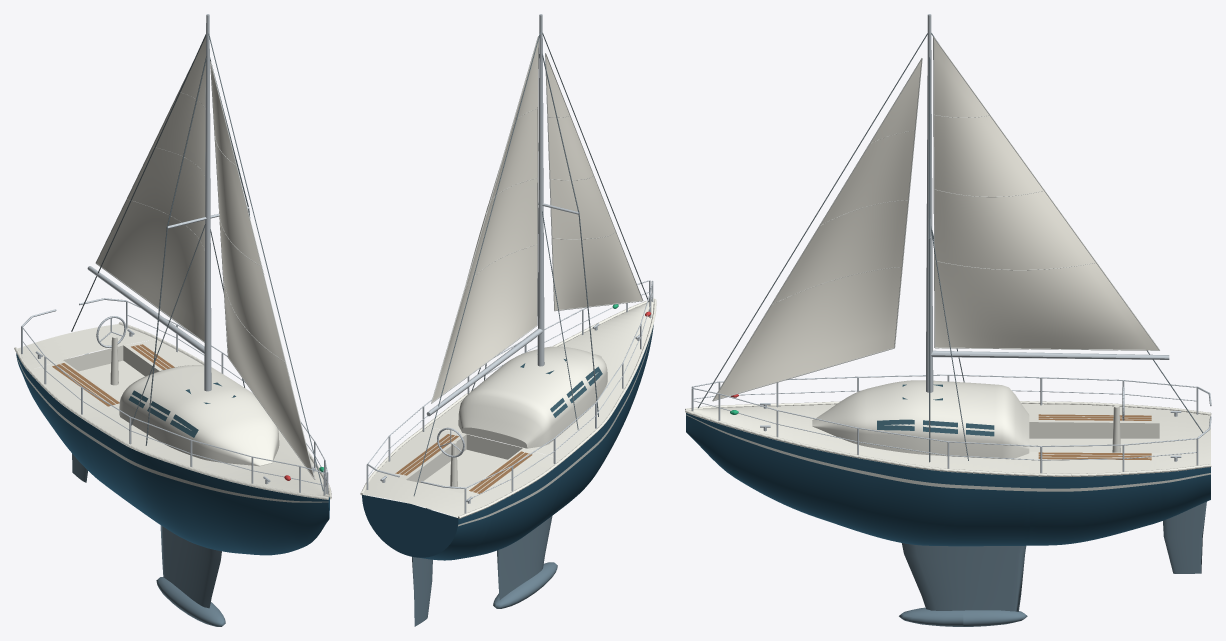
Rendered from yokuli-sloop.glb.
3 renders of one model, left to right at view 1: azimuth 30°, elevation 25°; view 2: azimuth 150°, elevation 25°; view 3: azimuth 270°, elevation 25°, orthographic. The views are drawn at different scales.
Parts seen in each view (by area): view 1: mainsail, hull, headsail, cabin, deck, keel, port, cockpit, mast, rigging, starboard, cabin-glazing (+1 smaller); view 2: mainsail, hull, deck, headsail, cabin, cockpit, keel, port, mast, rigging, starboard, rudder (+2 smaller); view 3: mainsail, hull, headsail, deck, cabin, keel, starboard, cockpit, mast, port, rudder, rigging (+1 smaller).
Boxes of the visible parts, x1,y1,x2,y2 form: mainsail: [95, 36, 205, 342]; hull: [16, 353, 329, 555]; headsail: [210, 61, 315, 479]; cabin: [119, 365, 279, 466]; deck: [17, 324, 328, 497]; keel: [156, 525, 225, 626]; port: [14, 309, 328, 502]; cockpit: [52, 344, 174, 406]; mast: [87, 14, 249, 391]; rigging: [71, 33, 323, 491]; starboard: [79, 298, 331, 499]; cabin-glazing: [128, 382, 235, 437]; mainsail: [431, 36, 538, 403]; hull: [362, 325, 653, 560]; deck: [363, 298, 654, 517]; headsail: [545, 53, 643, 311]; cabin: [458, 346, 607, 448]; cockpit: [395, 434, 532, 493]; keel: [493, 516, 557, 608]; port: [420, 280, 656, 526]; mast: [426, 14, 579, 416]; rigging: [413, 31, 648, 496]; starboard: [360, 280, 650, 495]; rudder: [412, 508, 432, 626]; mainsail: [933, 37, 1159, 350]; hull: [686, 413, 1210, 546]; headsail: [712, 58, 922, 401]; deck: [686, 403, 1210, 473]; cabin: [812, 380, 1029, 459]; keel: [899, 543, 1027, 626]; starboard: [685, 388, 1211, 491]; cockpit: [1029, 414, 1159, 460]; mast: [926, 14, 1169, 392]; port: [685, 374, 1211, 415]; rudder: [1163, 501, 1206, 573]; rigging: [698, 33, 1203, 462].
Size of the model in its own units: 1.29 by 5 by 3.91.
